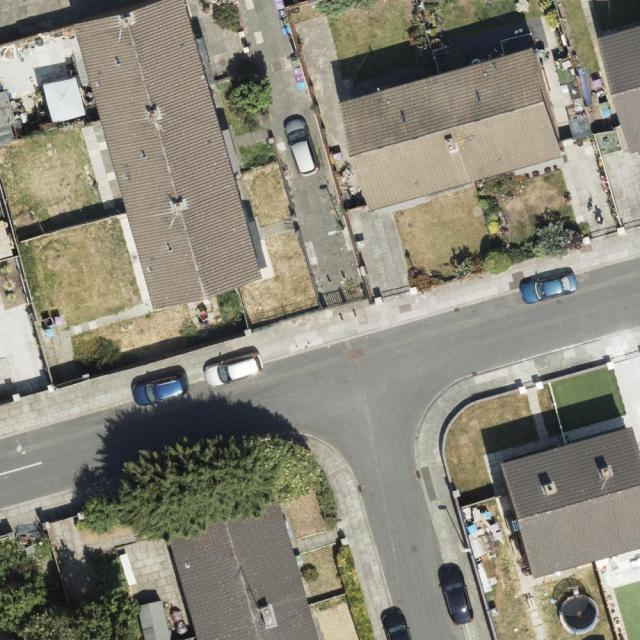roof: (77, 0, 261, 312), (336, 46, 563, 213), (164, 498, 320, 640), (499, 425, 640, 578), (597, 24, 640, 155)
